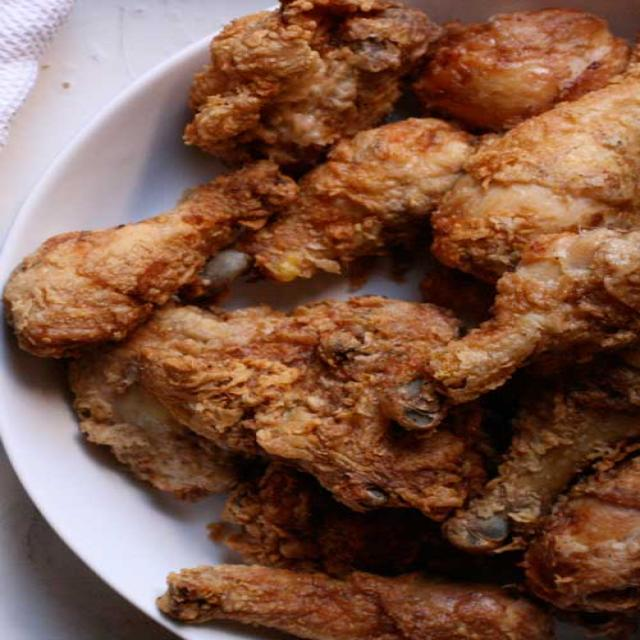Frango: (6, 0, 640, 640)
